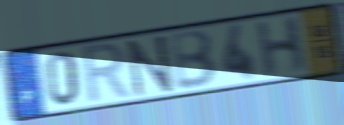0: (44, 49, 81, 109)
4: (220, 20, 259, 85)
B: (167, 28, 219, 92)
H: (254, 13, 308, 80)
N: (125, 33, 176, 100)
R: (80, 40, 133, 107)
